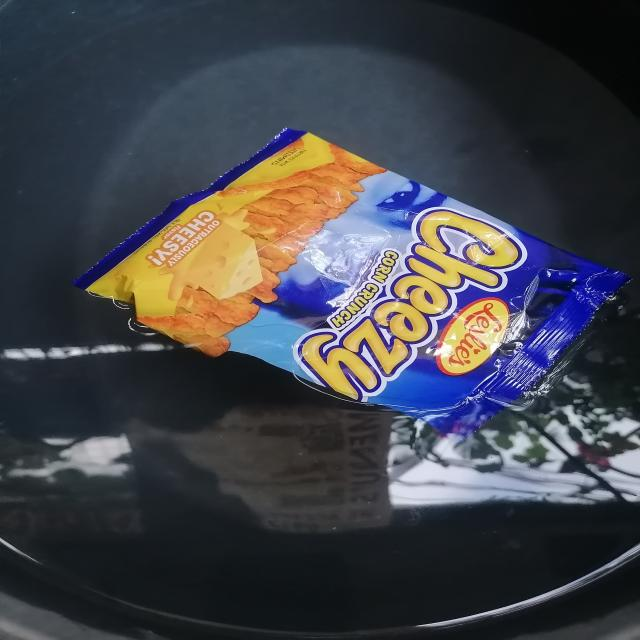Plastic Wrapper: (85, 129, 628, 432)
